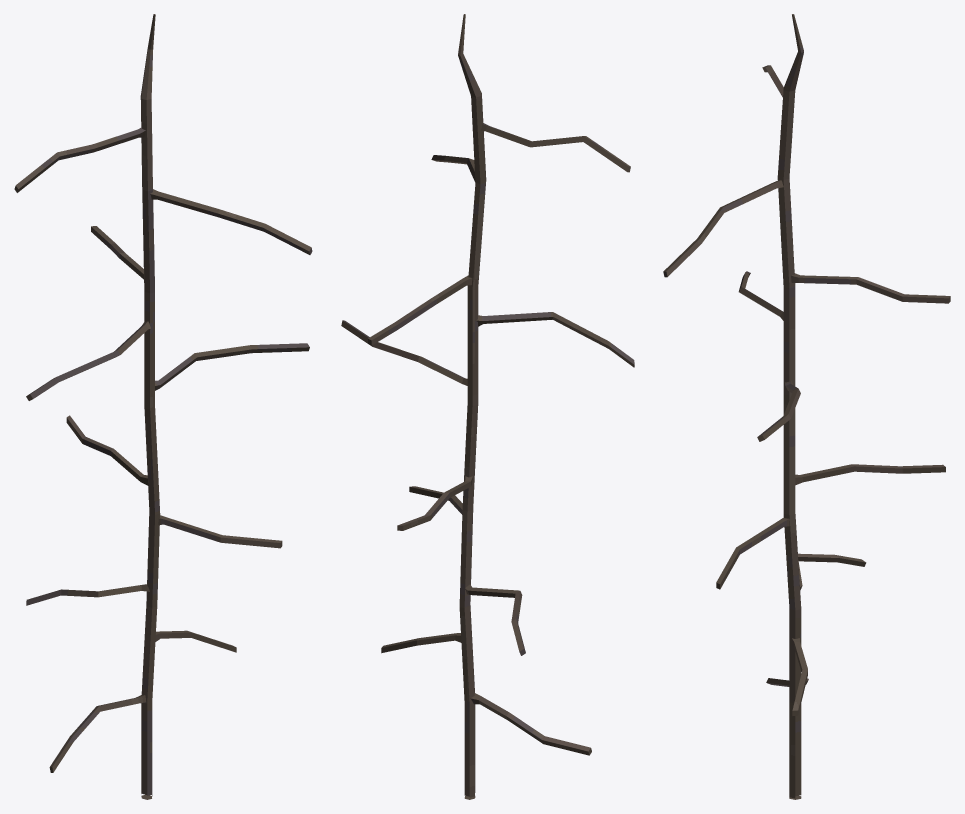
File: Undergrowth.glb
3 views of the same model, side by side, from view 1: azimuth 30°, elevation 25°; view 2: azimuth 150°, elevation 25°; view 3: azimuth 270°, elevation 25° (orthographic).
Parts seen in each view (by area): view 1: cylinder; view 2: cylinder; view 3: cylinder.
Boxes of the visible parts, bbox=[...] form: cylinder: bbox=[14, 14, 312, 799]; cylinder: bbox=[341, 14, 634, 799]; cylinder: bbox=[663, 14, 950, 799].
Size of the model in its own units: 1.79 by 4.63 by 1.53.
1 material, 1 textured.
